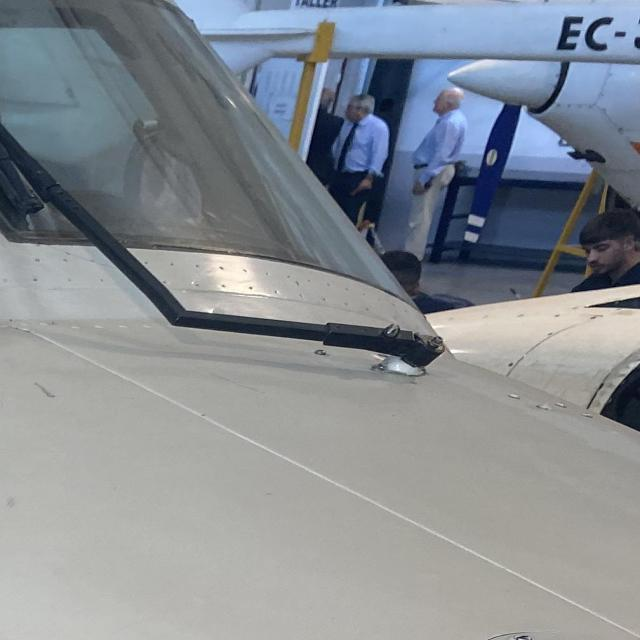Paint-off: (31, 380, 58, 399)
